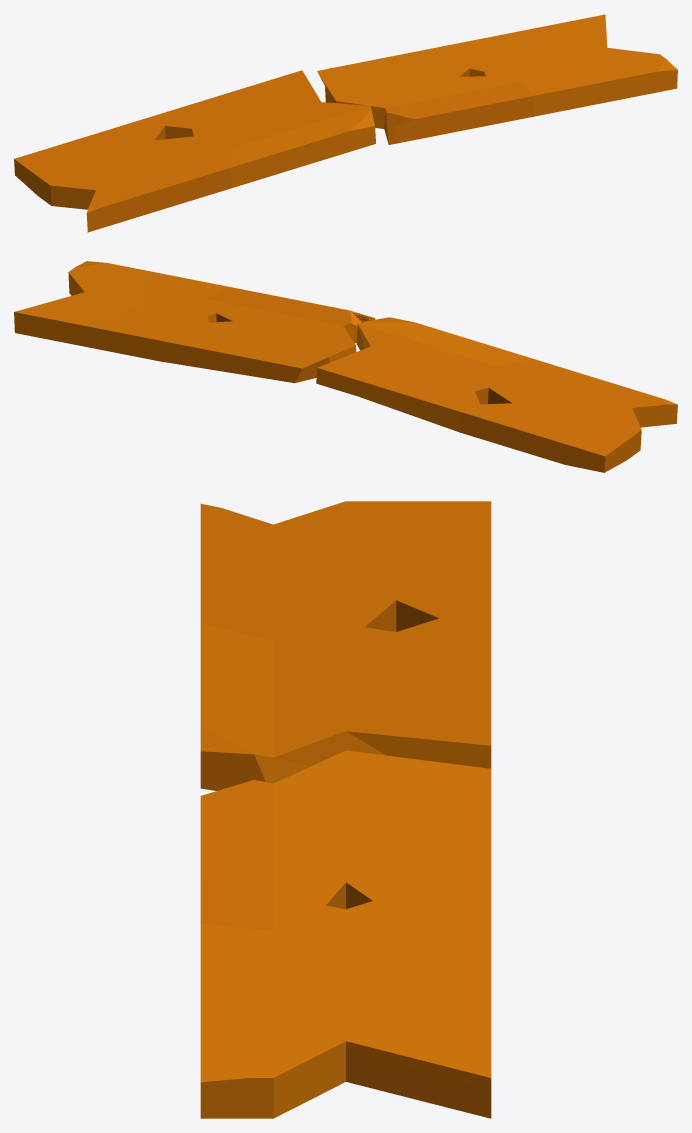
Rendered from Rotten and broken wood_12.fbx.
The picture shows the model from 3 angles, top to bottom: view 1: azimuth 30°, elevation 25°; view 2: azimuth 150°, elevation 25°; view 3: azimuth 270°, elevation 25°; orthographic projection. The views are drawn at different scales.
Parts seen in each view (by area): view 1: Cube.095, Cube.091; view 2: Cube.095, Cube.091; view 3: Cube.091, Cube.095.
Part boxes in pixels (left/top/right/bottom): Cube.095: left=14, top=70, right=375, bottom=232; Cube.091: left=317, top=14, right=677, bottom=144; Cube.095: left=316, top=317, right=677, bottom=472; Cube.091: left=14, top=261, right=375, bottom=383; Cube.091: left=200, top=750, right=491, bottom=1118; Cube.095: left=200, top=501, right=491, bottom=790.
Size of the model in its own units: 61.44 by 3.97 by 13.07.
